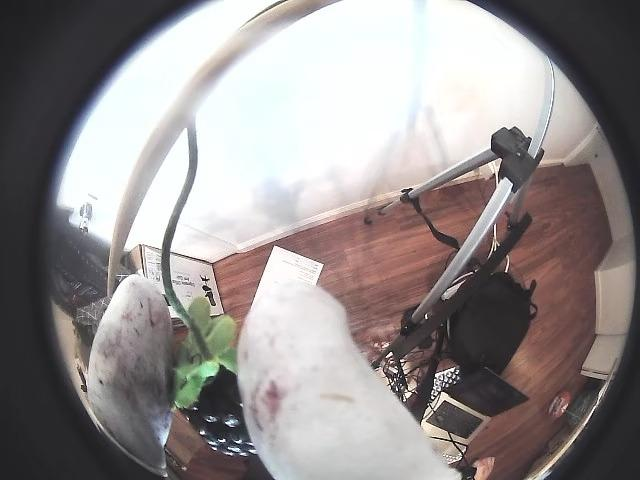berry: (175, 297, 254, 456)
gripper: (236, 280, 460, 479), (85, 274, 175, 475)
lense: (0, 0, 208, 479), (470, 0, 639, 479)
